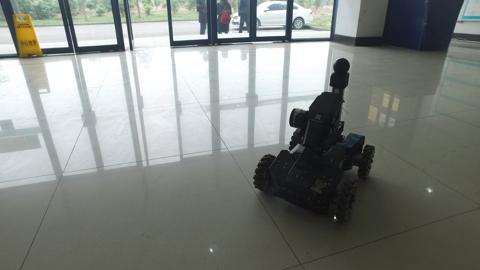car: (229, 1, 315, 31)
chariot: (252, 56, 375, 224)
